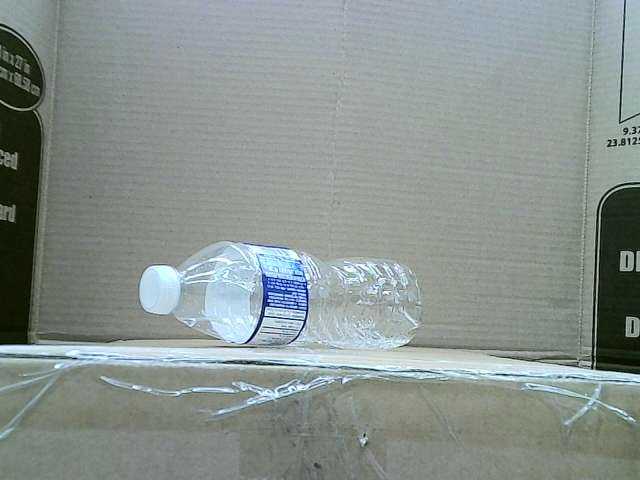WaterBottle: (139, 240, 421, 347)
